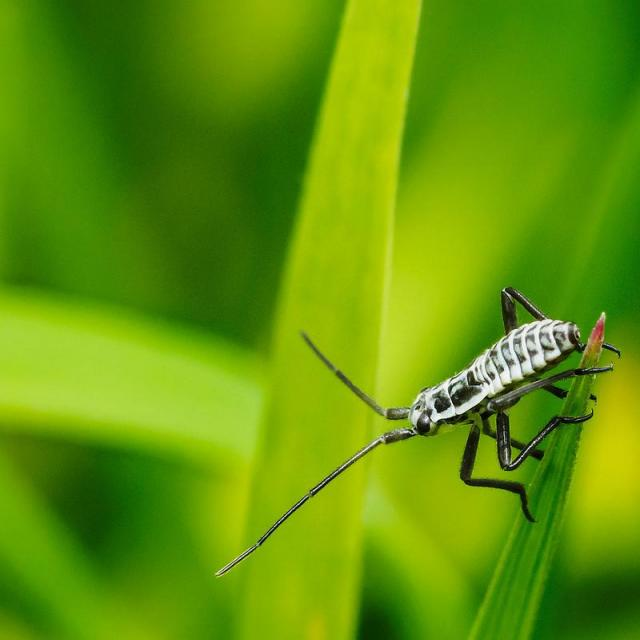Miridae-Adult-: (219, 281, 624, 544)
